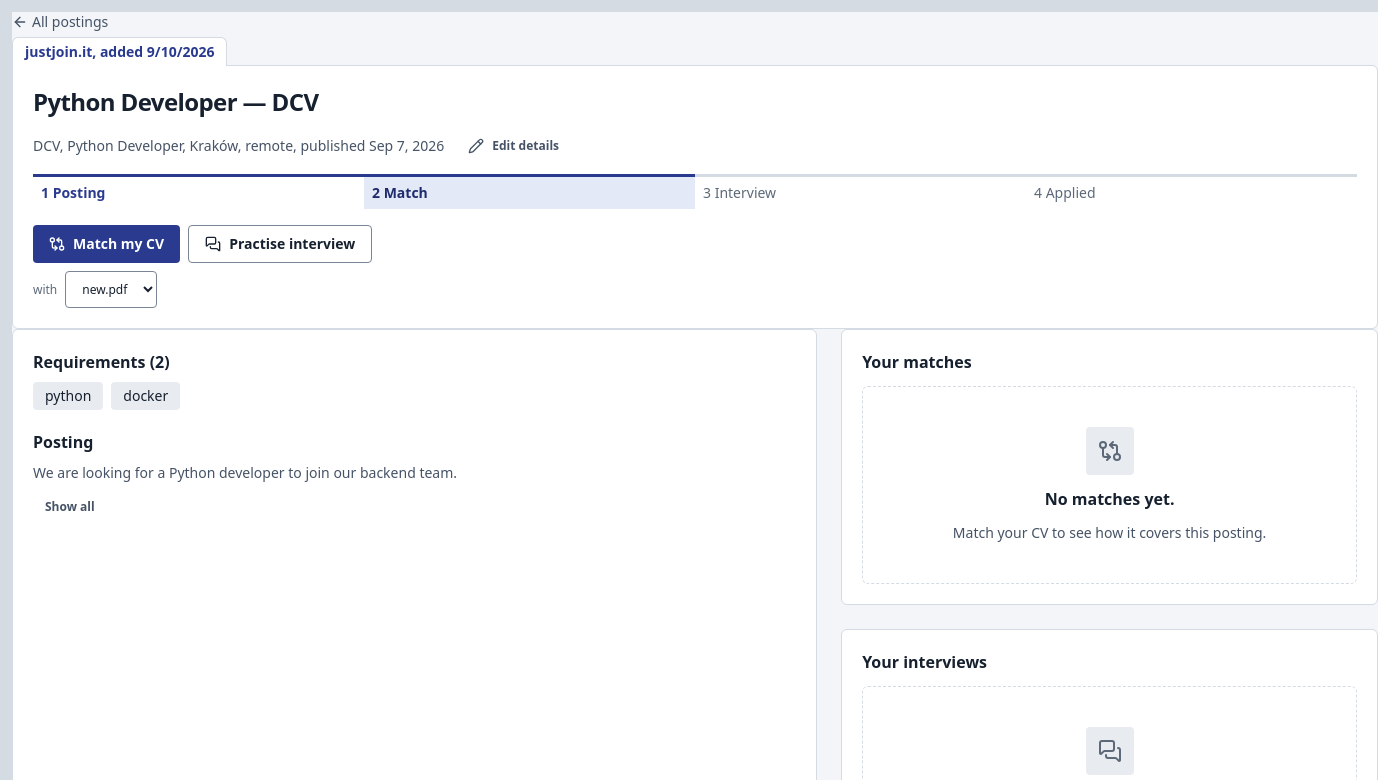
the rate limit says how long to wait
Click the button "Match my CV". click: (107, 244)
box: [33,225,180,263]
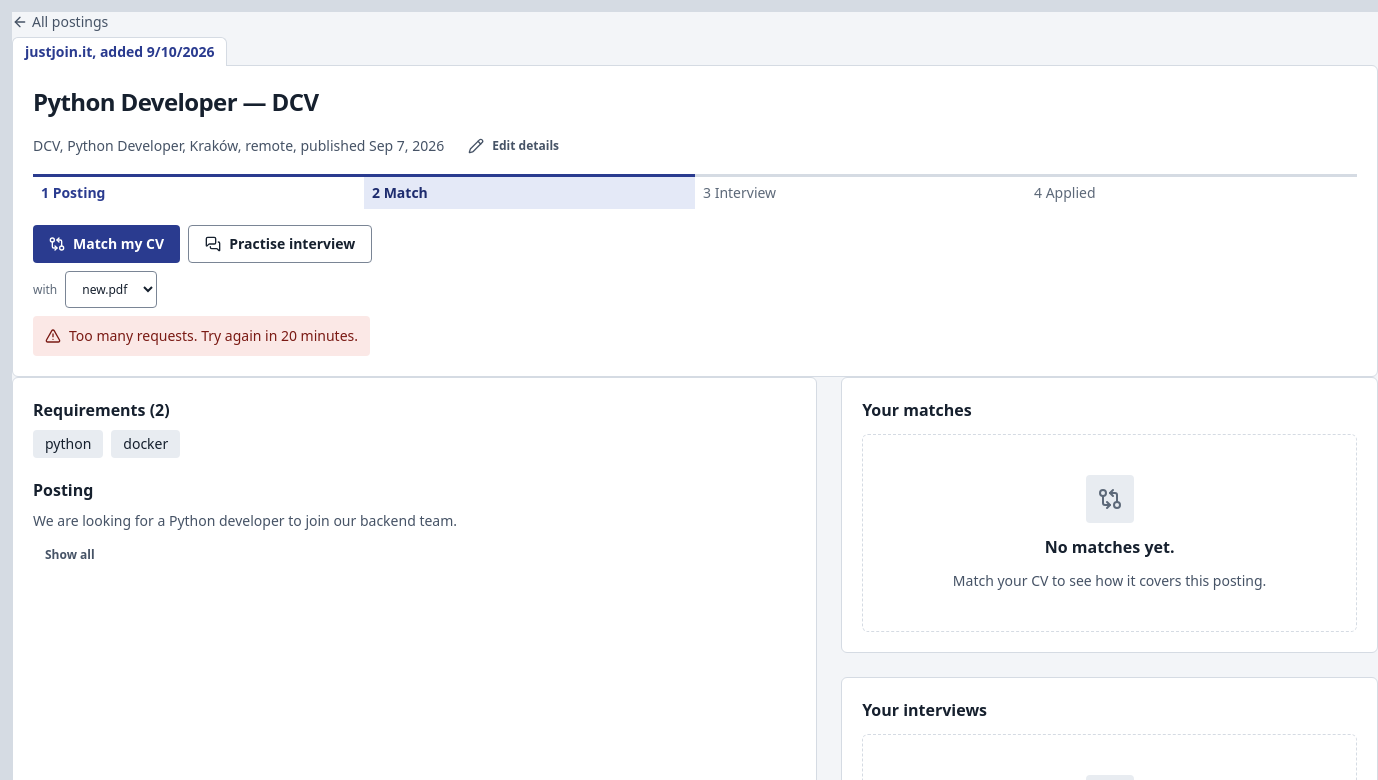
Now the message reads "Too many requests. Try again in 20 minutes.", box [69,326,358,345]
